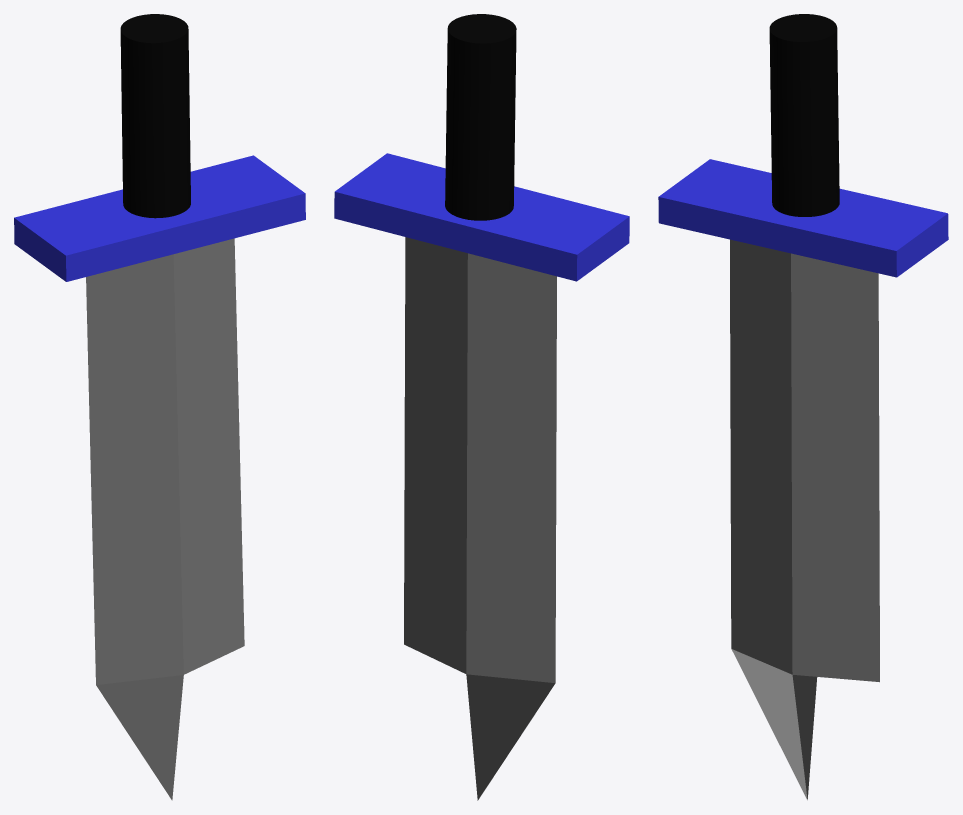
Rendered from 粗金属のナイフ.fbx.
3 views of the same model, side by side, from view 1: azimuth 30°, elevation 25°; view 2: azimuth 150°, elevation 25°; view 3: azimuth 330°, elevation 25° (orthographic).
Parts seen in each view (by area): view 1: 円, 立方体.003, 円柱.007; view 2: 円, 立方体.003, 円柱.007; view 3: 円, 立方体.003, 円柱.007.
Part boxes in pixels (x1,y1,x2,y2): 円: (86, 238, 244, 800); 立方体.003: (14, 155, 305, 281); 円柱.007: (120, 14, 190, 218); 円: (404, 237, 556, 800); 立方体.003: (334, 153, 629, 281); 円柱.007: (445, 14, 516, 220); 円: (730, 239, 879, 800); 立方体.003: (658, 159, 948, 277); 円柱.007: (769, 14, 839, 216).
Size of the model in its own units: 139 by 427 by 52.13.
